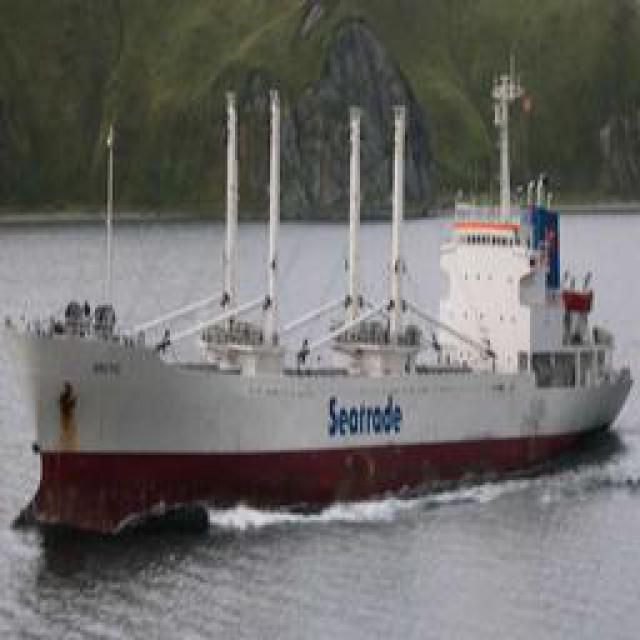Ship: (6, 37, 637, 577)
